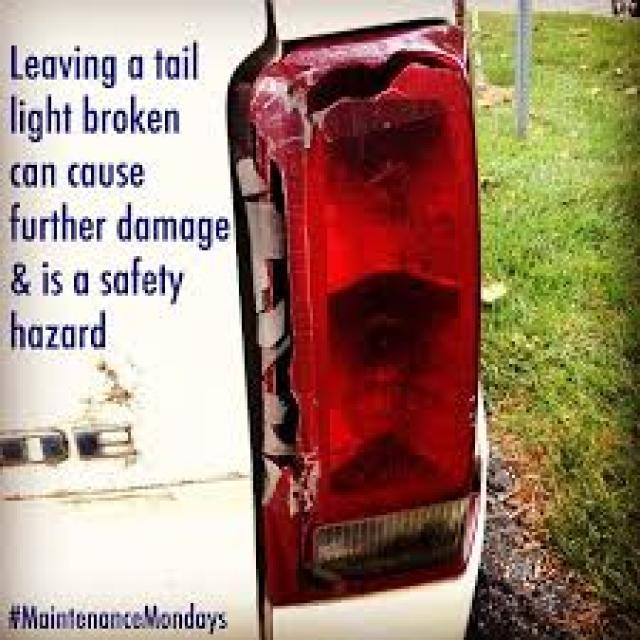damaged-tail-light: (220, 12, 486, 603)
